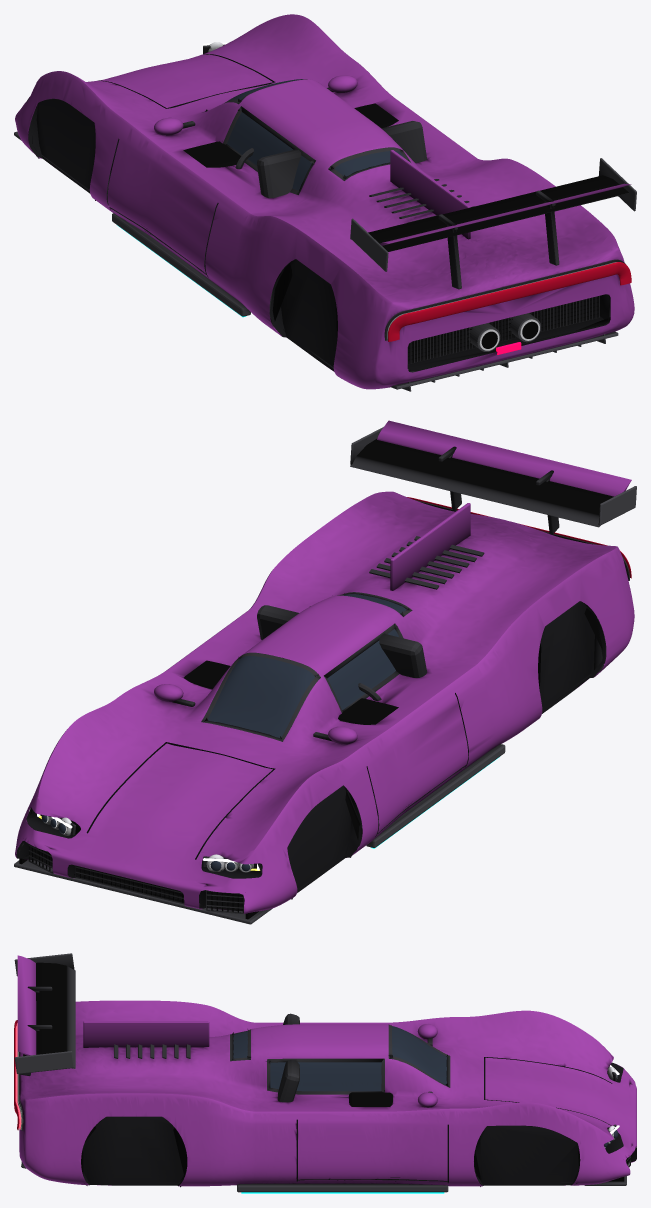
The model's file is proto_lo.glb.
3 renders of one model, top to bottom at view 1: azimuth 30°, elevation 25°; view 2: azimuth 150°, elevation 25°; view 3: azimuth 270°, elevation 25°, orthographic. The views are drawn at different scales.
Parts seen in each view (by area): view 1: body, wing, tail_lens, glass_panes, object 9, part.064, part.068, seat.001, dash, cabin_skin, seat.003, part.047 (+6 smaller); view 2: body, glass_panes, wing, wing.001, part.064, cabin_skin, dash, part.068, part.065, seat.001, object 6, part.058 (+1 smaller); view 3: body, glass_panes, wing, part.064, part.070, wing.001, cabin_skin, part.061, seat.003, dash, part.058, part.071.
Part boxes in pixels (box(x1,y1,x2,y2)): body: box(15, 14, 634, 389); wing: box(350, 175, 629, 251); tail_lens: box(388, 262, 631, 341); glass_panes: box(227, 79, 404, 190); object 9: box(407, 296, 599, 364); part.064: box(390, 150, 470, 239); part.068: box(112, 213, 250, 316); seat.001: box(257, 149, 301, 198); dash: box(183, 103, 398, 167); cabin_skin: box(28, 54, 610, 371); seat.003: box(381, 121, 426, 162); part.047: box(390, 331, 618, 389); body: box(15, 491, 634, 913); glass_panes: box(207, 594, 406, 738); wing: box(350, 438, 613, 527); wing.001: box(377, 420, 631, 496); part.064: box(390, 503, 470, 590); cabin_skin: box(18, 592, 606, 909); dash: box(183, 660, 398, 726); part.068: box(366, 744, 505, 847); part.065: box(14, 859, 272, 924); seat.001: box(379, 633, 426, 677); object 6: box(75, 865, 184, 904); part.058: box(598, 486, 636, 525); body: box(19, 1000, 636, 1186); glass_panes: box(233, 1026, 446, 1091); wing: box(23, 962, 75, 1068); part.064: box(83, 1021, 209, 1047); part.070: box(237, 1183, 448, 1192); wing.001: box(17, 955, 36, 1055); cabin_skin: box(81, 1029, 623, 1187); part.061: box(14, 1051, 74, 1073); seat.003: box(277, 1060, 299, 1102); dash: box(348, 1092, 392, 1106); part.058: box(14, 953, 74, 976); part.071: box(241, 1192, 444, 1193).
Bounding box in the file's own units: 2.01 × 1.23 × 4.95.
